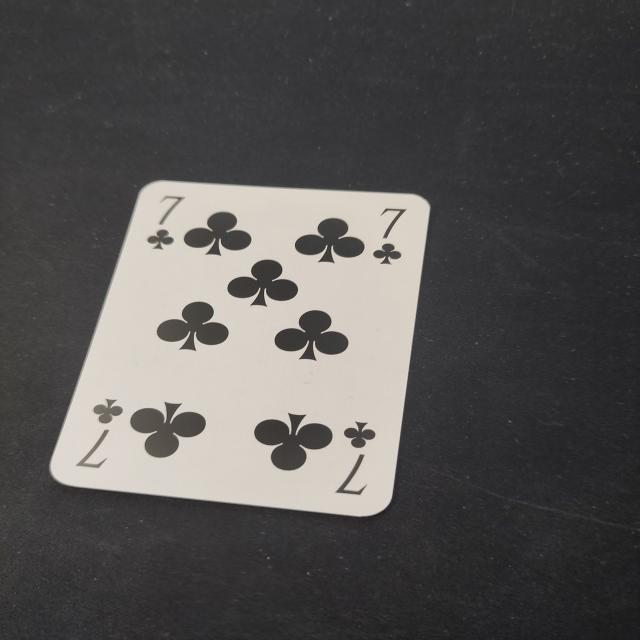7c: (68, 393, 130, 475), (331, 414, 379, 500), (367, 201, 413, 270), (142, 190, 188, 256)
